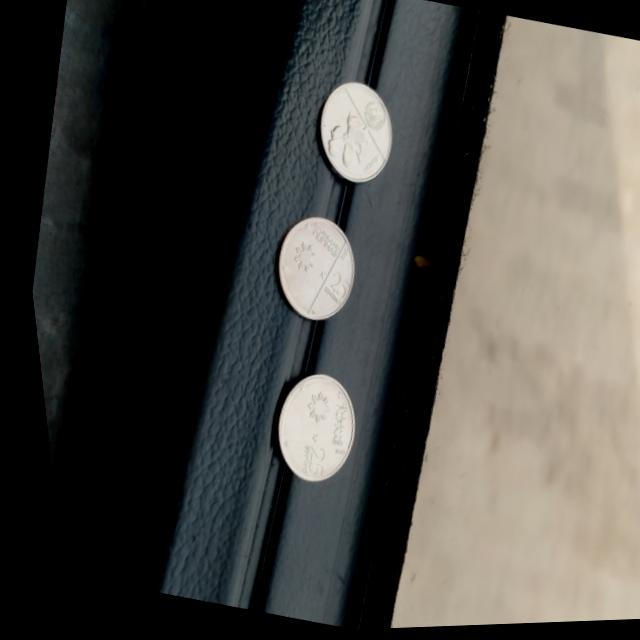25Cent_New_Back: (319, 105, 373, 172)
25Cent_New_Front: (277, 439, 320, 483), (309, 267, 347, 309)
